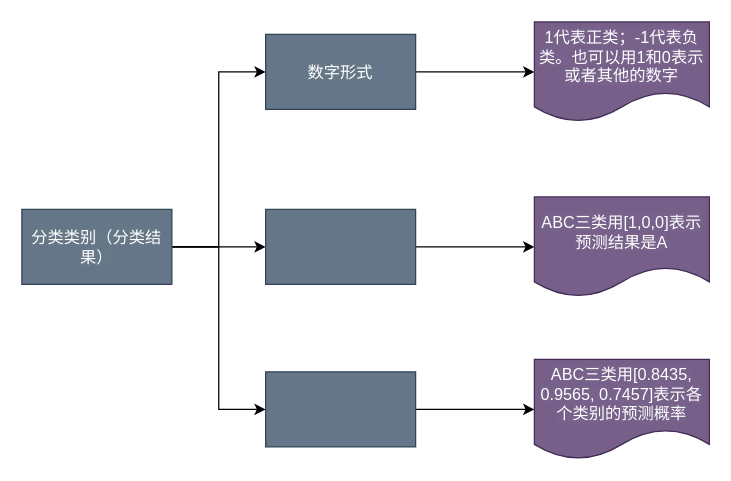
This 731x481 diagram has some shape labels left out. The shapes that lost their labels are listed below. From the top down, each one's box as (x1, y1, x2, y2) in pixels, then its label:
(264, 208, 416, 284): 向量形式
(264, 371, 416, 447): 概率值形式
